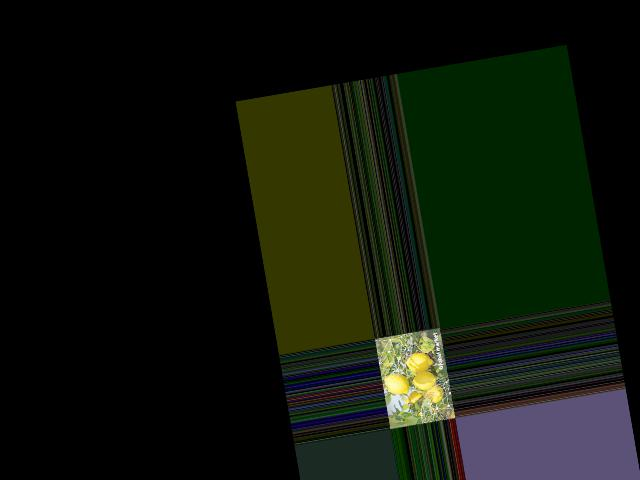lemon: (381, 370, 411, 398)
